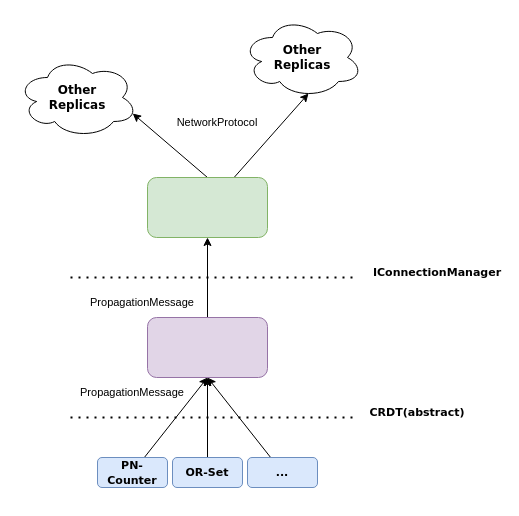
This 519x516 diagram has some shape labels left out. Each missing label, with the box of its shape:
Connection Manager: (146, 176, 268, 238)
Replication Manager: (146, 316, 268, 378)
